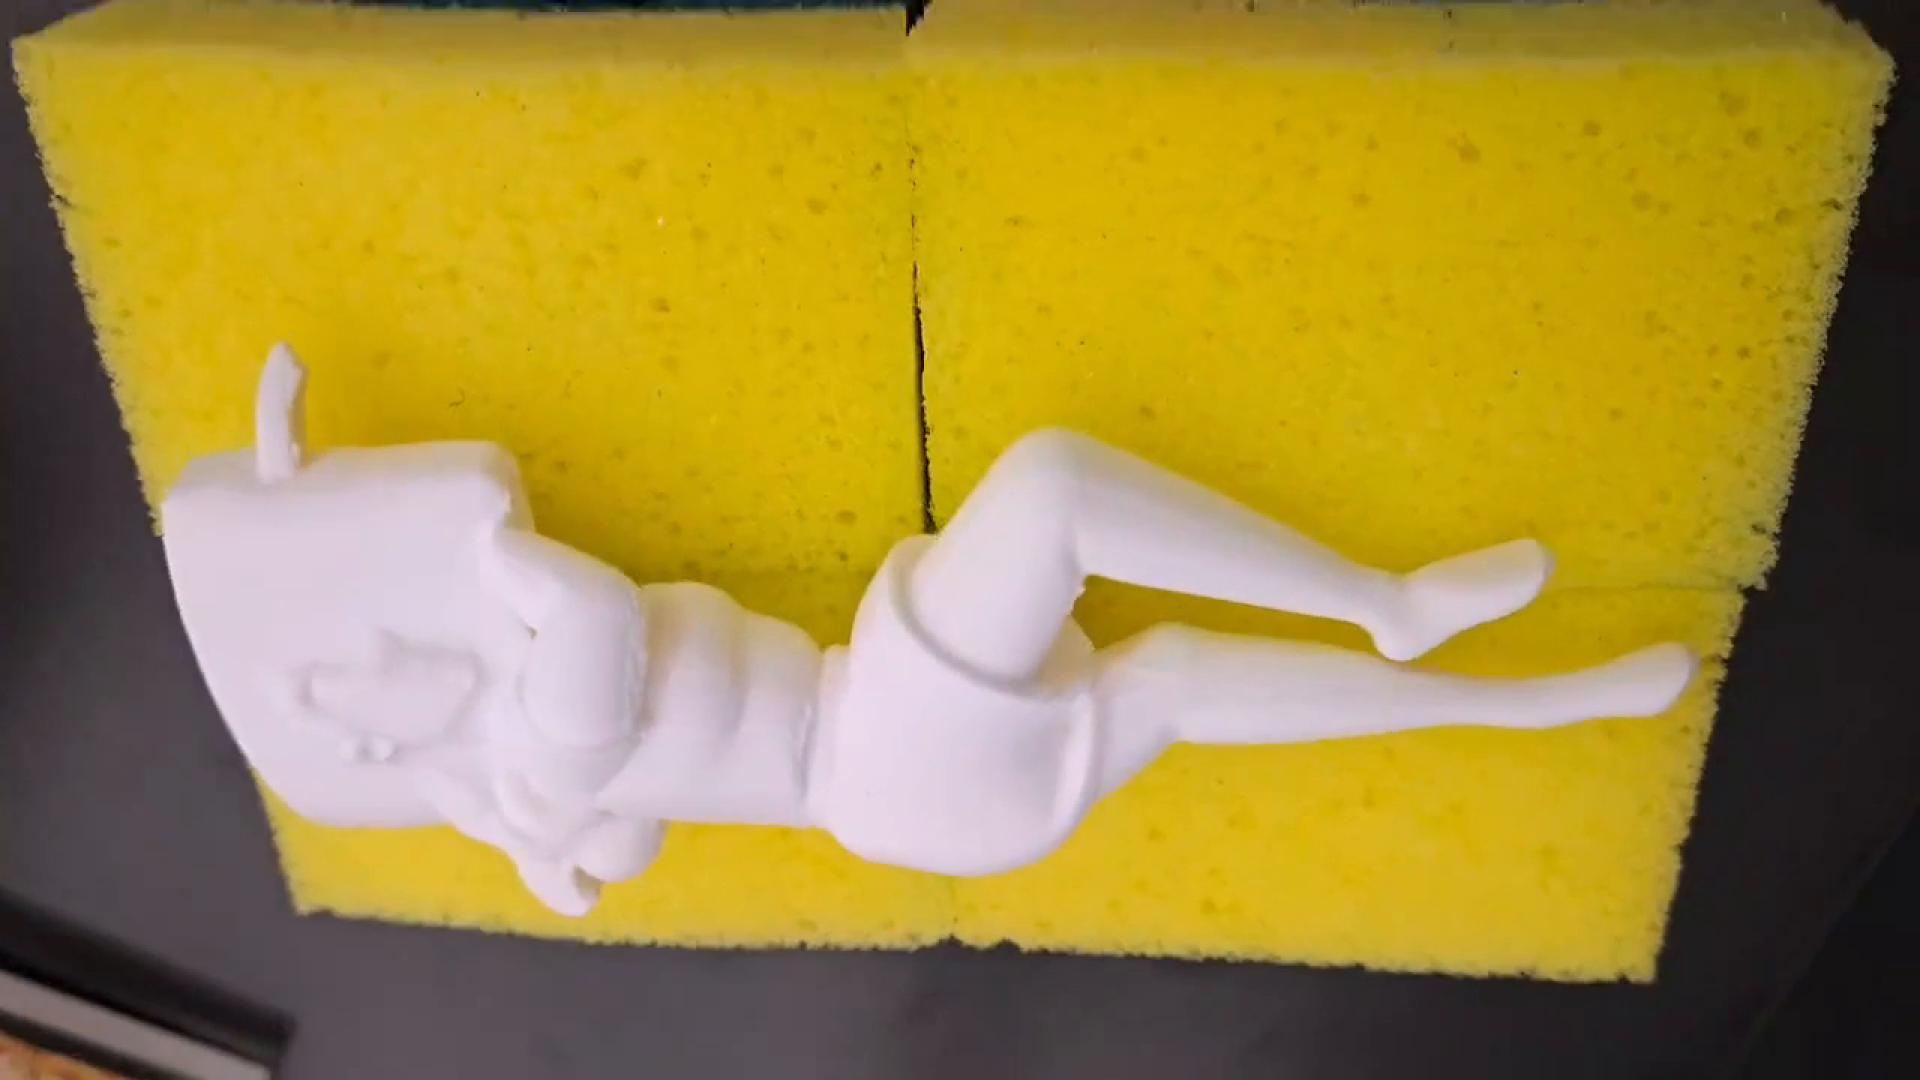Good-style: (156, 332, 1693, 916)
